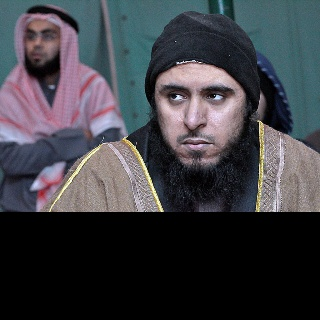without_mask: (153, 61, 251, 170), (23, 18, 59, 66)
